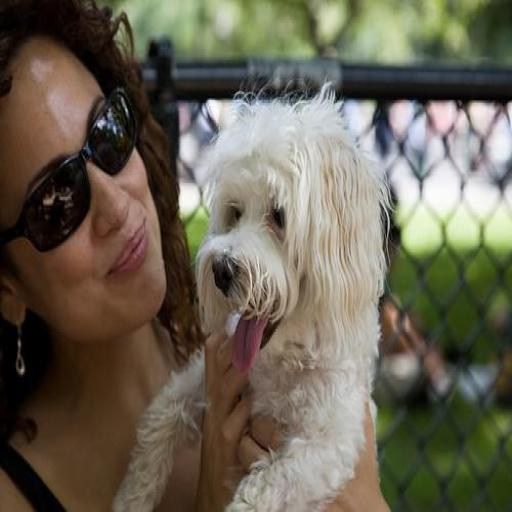dog_face: (193, 111, 392, 376)
